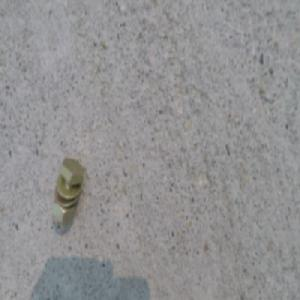BoltNutSet: (51, 154, 83, 226)
